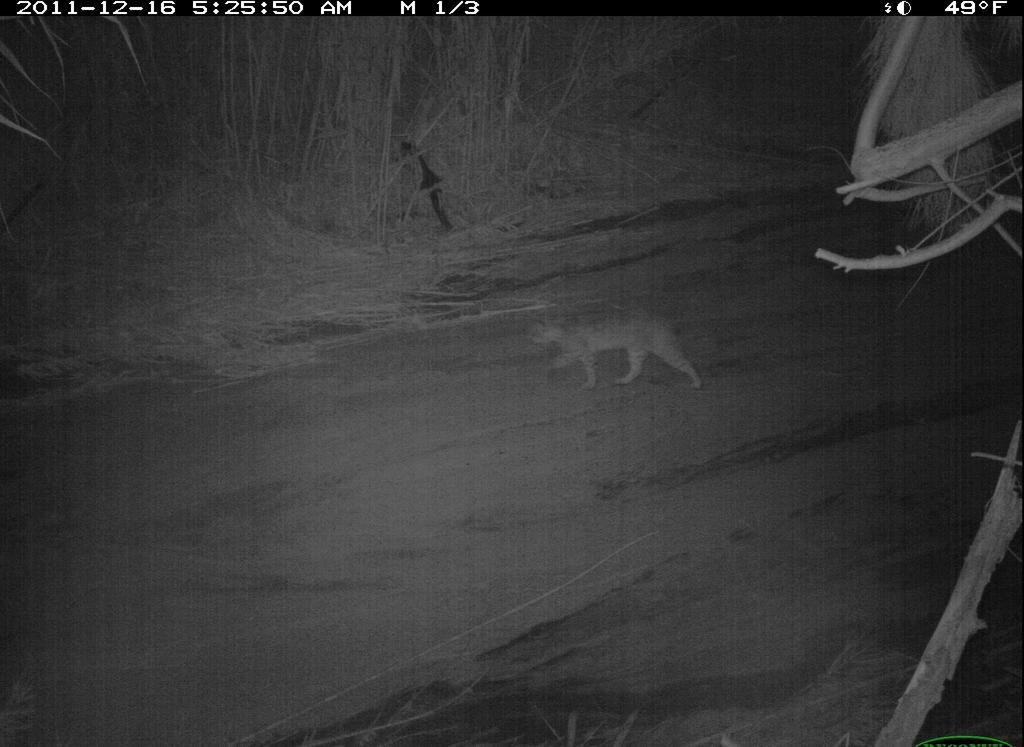bobcat: (521, 305, 712, 396)
